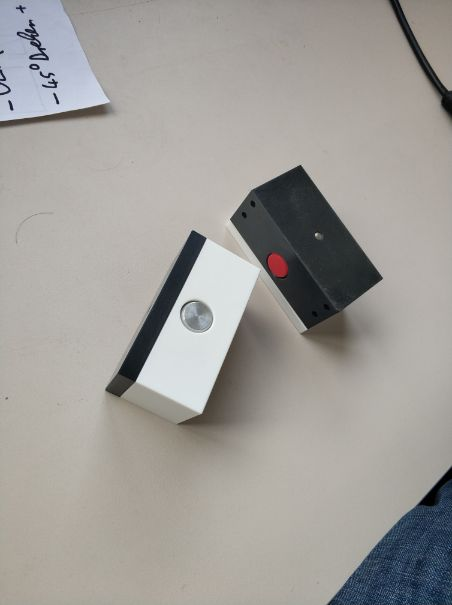black+white+silver: (101, 228, 263, 431)
white+black+red: (222, 163, 388, 340)
